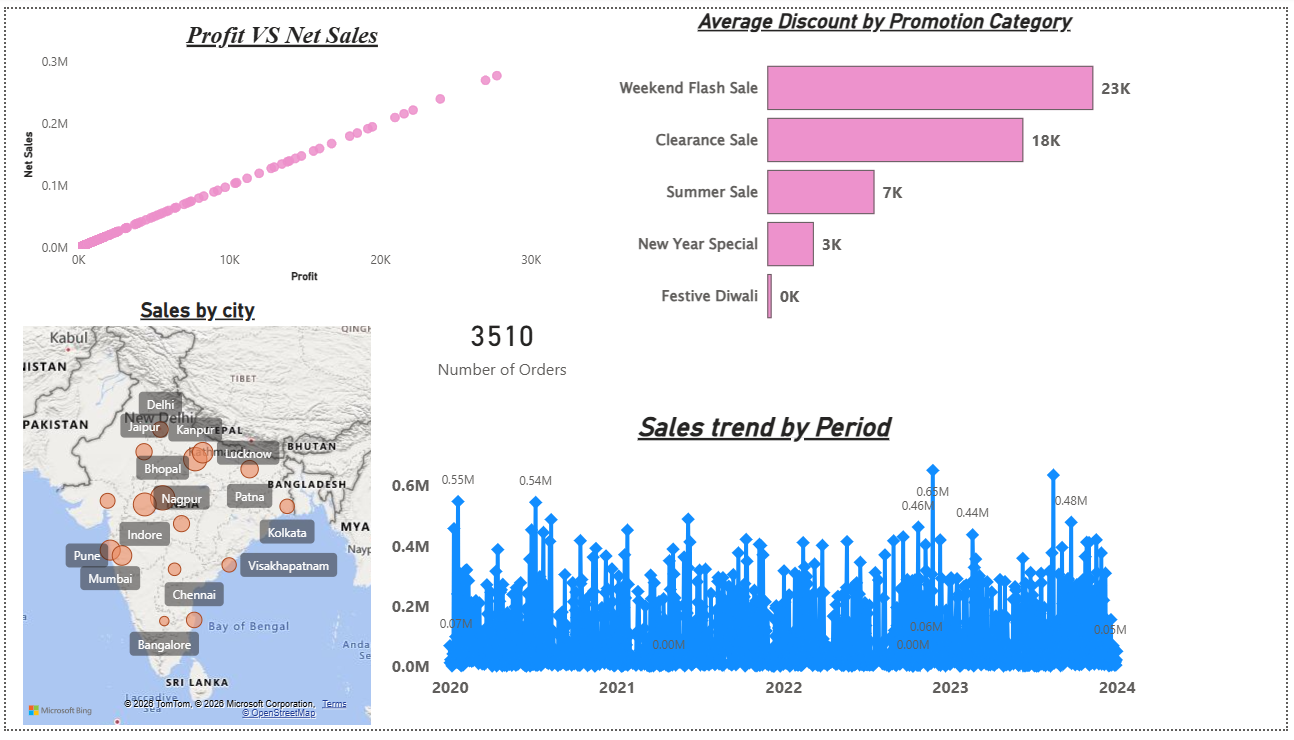

Layout of this report page (visuals, bound fields, positions):
{"tool":"powerbi","page":{"name":"Overview","canvas":[1280,720],"ordinal":0},"visuals":[{"type":"scatterChart","title":"Profit VS Net Sales","fields":{"Y":["fact.Net Sales"],"X":["fact.Profit"]},"box":[12.5,12.5,527.5,266.2],"z":0},{"type":"barChart","title":"Average  Discount by Promotion Category","fields":{"Y":["Avg(fact.Discount)"],"Category":["Dim Promotion.Promotion Name"]},"box":[607.5,0,541.2,336.2],"z":1000},{"type":"map","title":" Sales by city","fields":{"Category":["Dim Customers.City"],"Size":["Sum(fact.Net Sales)"]},"box":[12.3,288.2,358.1,432.2],"z":2000},{"type":"card","fields":{"Values":["CountNonNull(fact.Index)"]},"box":[371.2,288.8,250,93.8],"z":3000},{"type":"lineChart","title":"Sales trend by Period","fields":{"Y":["Sum(fact.Net Sales)"],"Category":["fact.date.Variation.Date Hierarchy.Year"]},"box":[380,402.5,755,297.5],"z":4000}]}

Visuals, with their boxes in screenshot pixels (x1, y1, x2, y2), scaled from the page's 1280x720 canvas onto the 1294x740 screenshot:
"Profit VS Net Sales" scatterChart: locate(13, 13, 546, 286)
"Average  Discount by Promotion Category" barChart: locate(614, 0, 1161, 346)
" Sales by city" map: locate(12, 296, 374, 739)
card - CountNonNull(fact.Index): locate(375, 297, 628, 393)
"Sales trend by Period" lineChart: locate(384, 414, 1147, 719)
